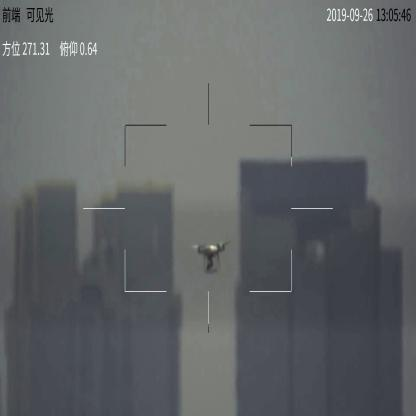uav: (188, 240, 226, 273)
